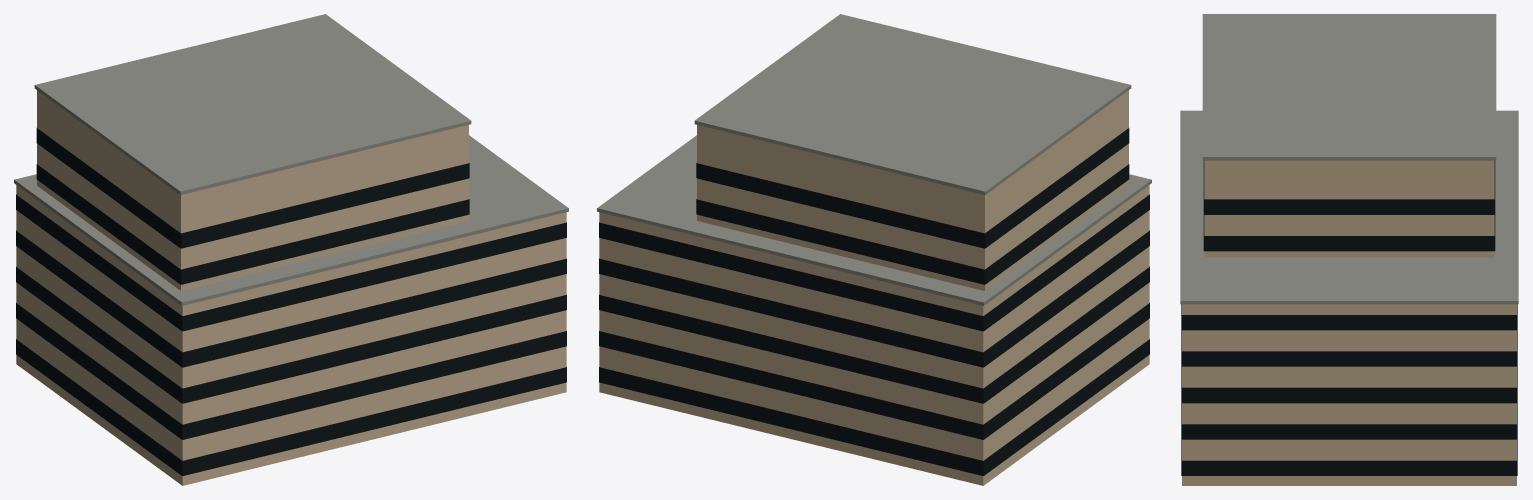
Rendered from EdificioBeige.obj.
The picture shows the model from 3 angles, left to right: view 1: azimuth 30°, elevation 25°; view 2: azimuth 150°, elevation 25°; view 3: azimuth 270°, elevation 25°; orthographic projection.
Visible parts, largest first — view 1: EdificioBeige; view 2: EdificioBeige; view 3: EdificioBeige.
Part boxes in pixels (x1=…): EdificioBeige: x1=14, y1=14, x2=568, y2=485; EdificioBeige: x1=597, y1=14, x2=1151, y2=485; EdificioBeige: x1=1180, y1=14, x2=1518, y2=485.
Size of the model in its own units: 40.3 by 28.35 by 30.3.
